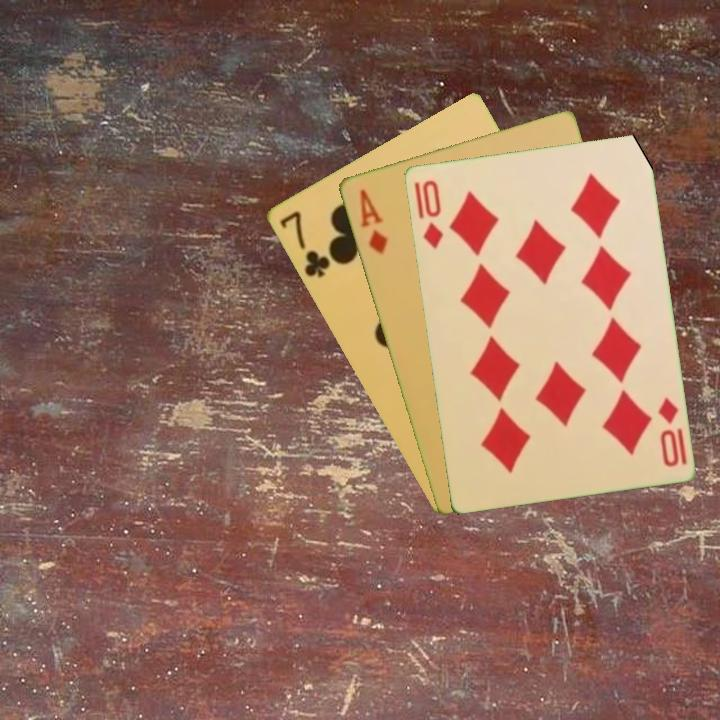10d: (654, 394, 689, 470), (418, 176, 446, 251)
7c: (275, 207, 333, 281)
Ad: (355, 185, 390, 258)
